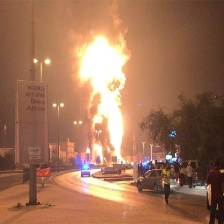fire: (79, 38, 132, 162)
smoke: (55, 1, 131, 35)
